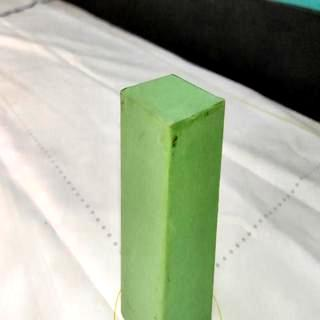greenbox: (119, 71, 225, 320)
